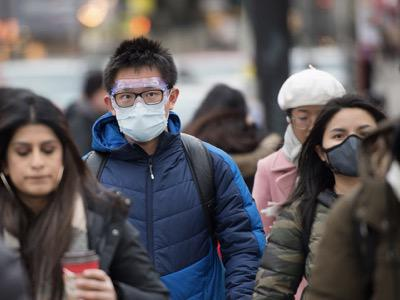with_mask: (110, 76, 169, 144), (323, 121, 378, 181)
without_mask: (5, 135, 65, 198), (289, 105, 322, 149)
